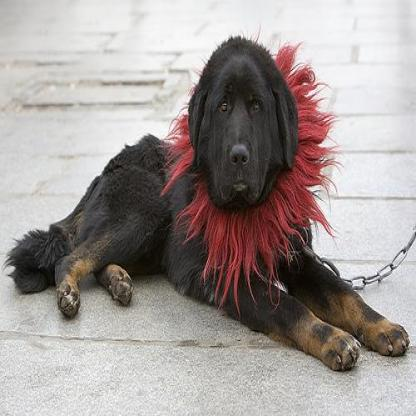Tibetan_mastiff: (3, 30, 412, 374)
